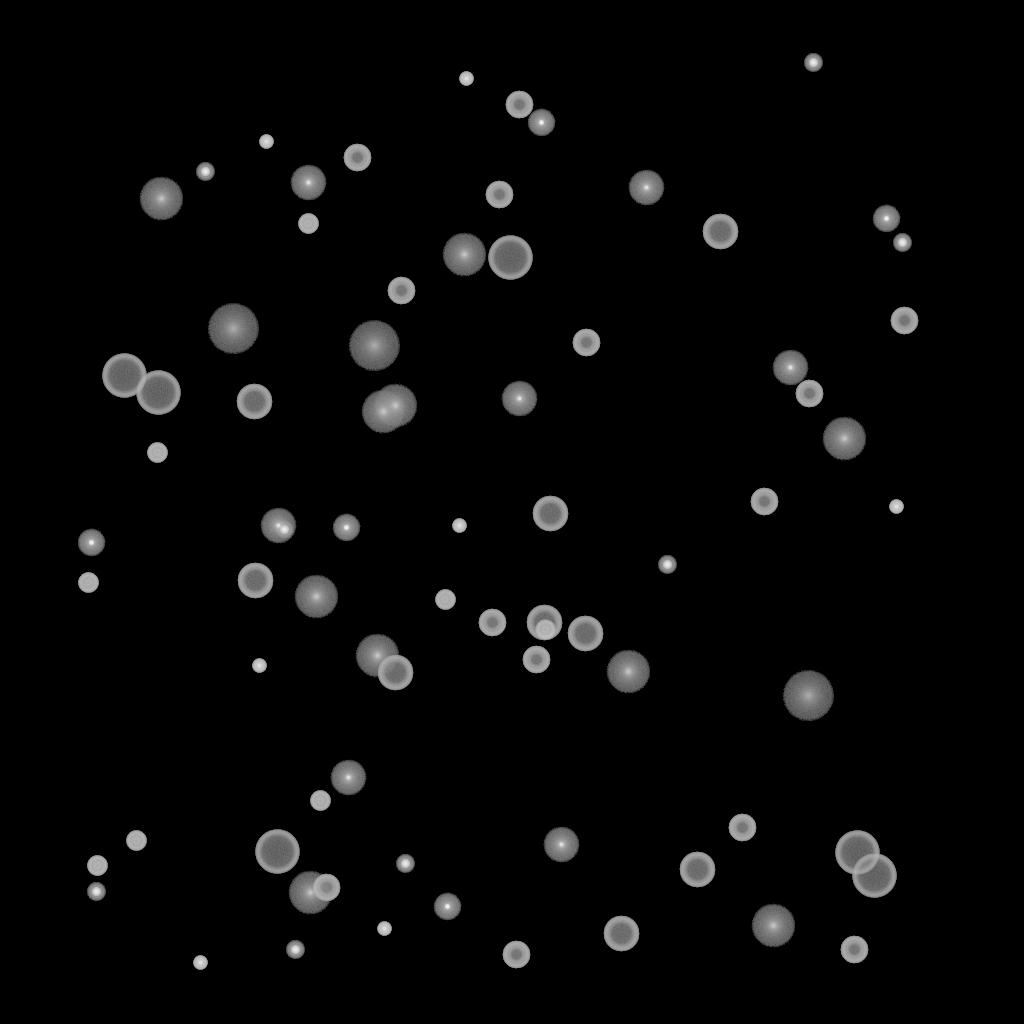depth:-10: (527, 109, 555, 137), (77, 529, 105, 557), (433, 893, 461, 921), (332, 514, 360, 542), (872, 205, 900, 233)
depth:-20: (804, 54, 822, 72), (658, 556, 676, 574), (87, 883, 105, 901), (275, 521, 293, 539), (286, 941, 304, 959), (196, 163, 214, 181), (396, 855, 414, 873), (893, 234, 911, 252)
depth:-30: (452, 519, 466, 533), (259, 135, 273, 149), (377, 922, 391, 936), (193, 956, 207, 970), (459, 72, 473, 86), (252, 659, 266, 673), (889, 500, 903, 514)
depth:-40: (535, 620, 555, 640), (147, 443, 167, 463), (87, 856, 107, 876), (310, 791, 330, 811), (126, 831, 146, 851), (78, 573, 98, 593), (435, 590, 455, 610), (298, 214, 318, 234)
depth:-50: (343, 144, 371, 172), (478, 609, 506, 637), (750, 488, 778, 516), (728, 814, 756, 842), (502, 941, 530, 969), (890, 307, 918, 335), (485, 181, 513, 209), (387, 277, 415, 305), (522, 646, 550, 674), (505, 91, 533, 119), (312, 874, 340, 902), (572, 329, 600, 357), (840, 936, 868, 964), (795, 380, 823, 408)
depth:-60: (236, 384, 272, 420), (526, 605, 562, 641), (237, 563, 273, 599), (679, 852, 715, 888), (603, 916, 639, 952), (567, 616, 603, 652), (702, 214, 738, 250), (377, 655, 413, 691), (532, 496, 568, 532)
depth:-70: (102, 354, 146, 398), (255, 830, 299, 874), (852, 854, 896, 898), (136, 371, 180, 415), (488, 236, 532, 280), (835, 831, 879, 875)
depth:0: (501, 381, 537, 417), (772, 350, 808, 386), (543, 827, 579, 863), (330, 760, 366, 796), (290, 165, 326, 201), (260, 508, 296, 544), (628, 170, 664, 206)
depth:10: (751, 904, 795, 948), (288, 871, 332, 915), (373, 384, 417, 428), (442, 233, 486, 277), (822, 417, 866, 461), (606, 650, 650, 694), (355, 634, 399, 678), (139, 177, 183, 221), (361, 390, 405, 434), (294, 575, 338, 619)
depth:20: (207, 304, 259, 354), (782, 671, 834, 721), (348, 321, 400, 371)
